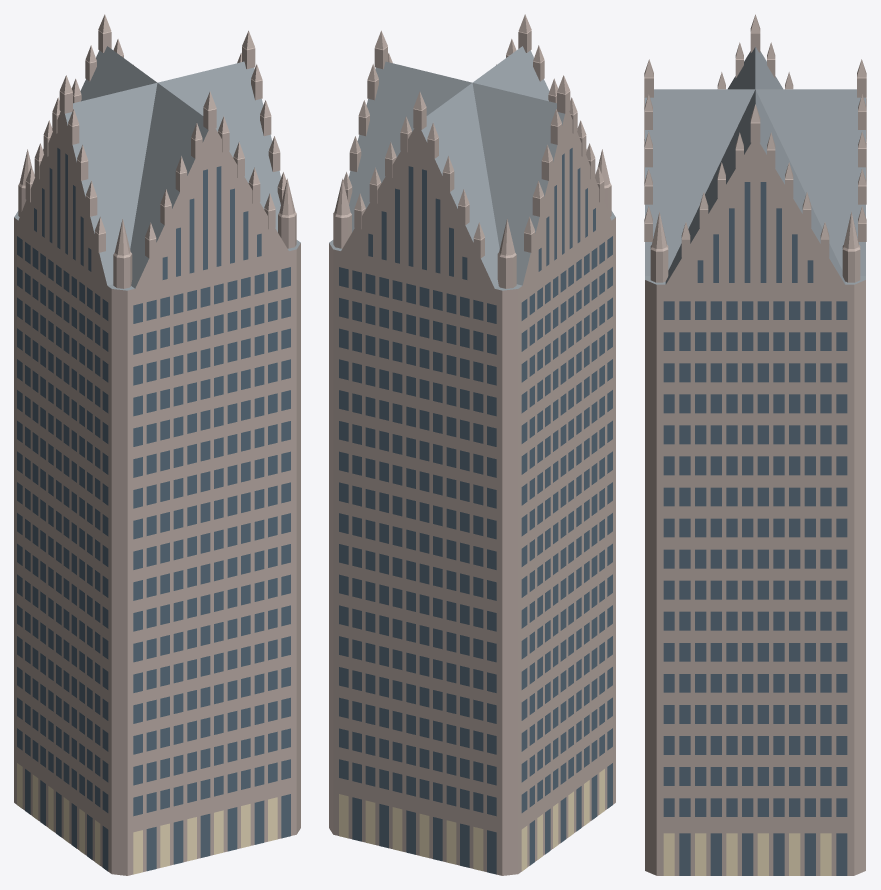
File: det-ally-detroit-center.glb
3 renders of one model, left to right at view 1: azimuth 30°, elevation 25°; view 2: azimuth 150°, elevation 25°; view 3: azimuth 270°, elevation 25°, orthographic.
Visible parts, largest first — view 1: Ally Detroit Center; view 2: Ally Detroit Center; view 3: Ally Detroit Center.
Part boxes in pixels (x1=…): Ally Detroit Center: x1=14, y1=14, x2=300, y2=875; Ally Detroit Center: x1=329, y1=14, x2=615, y2=875; Ally Detroit Center: x1=644, y1=14, x2=866, y2=875.
Bounding box in the file's own units: 49.6 × 190 × 49.6.
